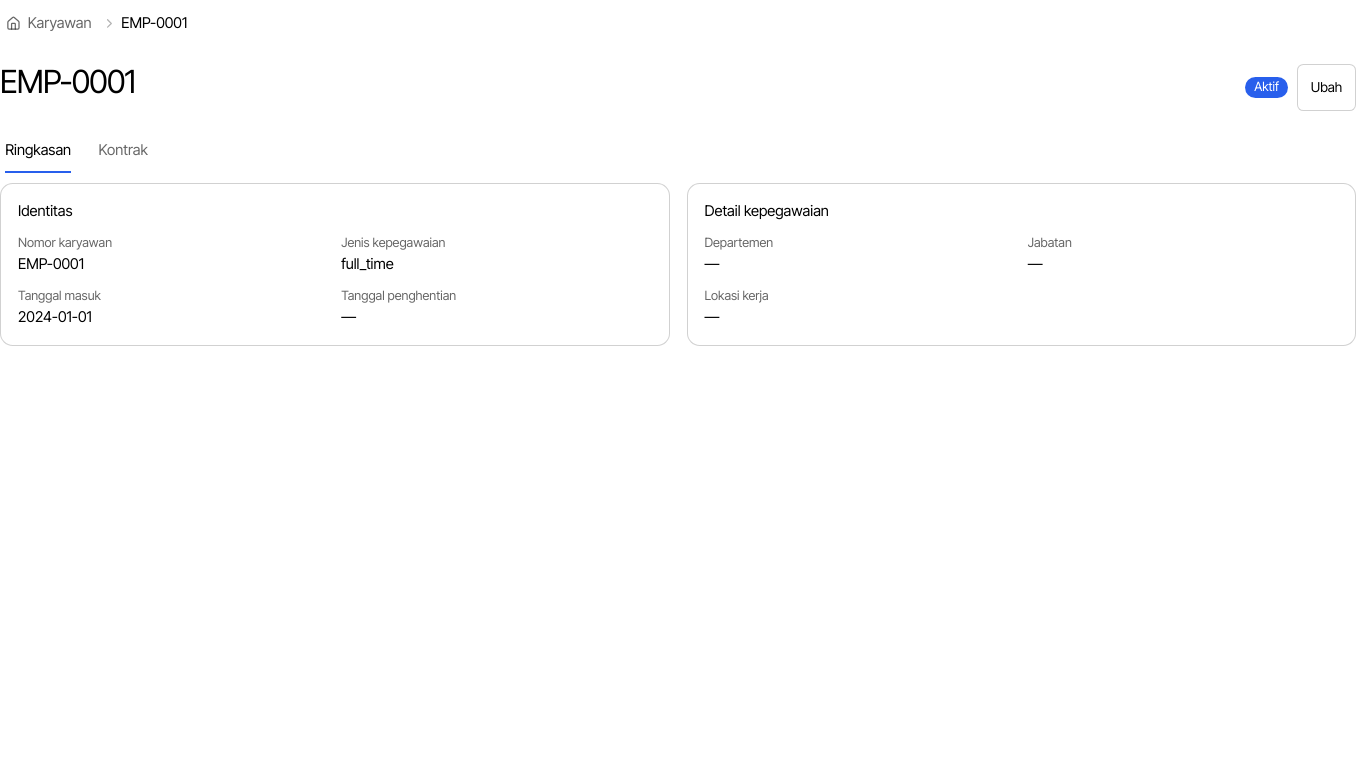
it: EmployeeDetail branches › opens the edit dialog and saves
The width and height of the screenshot is (1366, 768).
expect the heading "EMP-0001" is shown: met, box [0, 64, 135, 100]
Click the button "Ubah" at (1326, 87), box [1297, 64, 1356, 111]
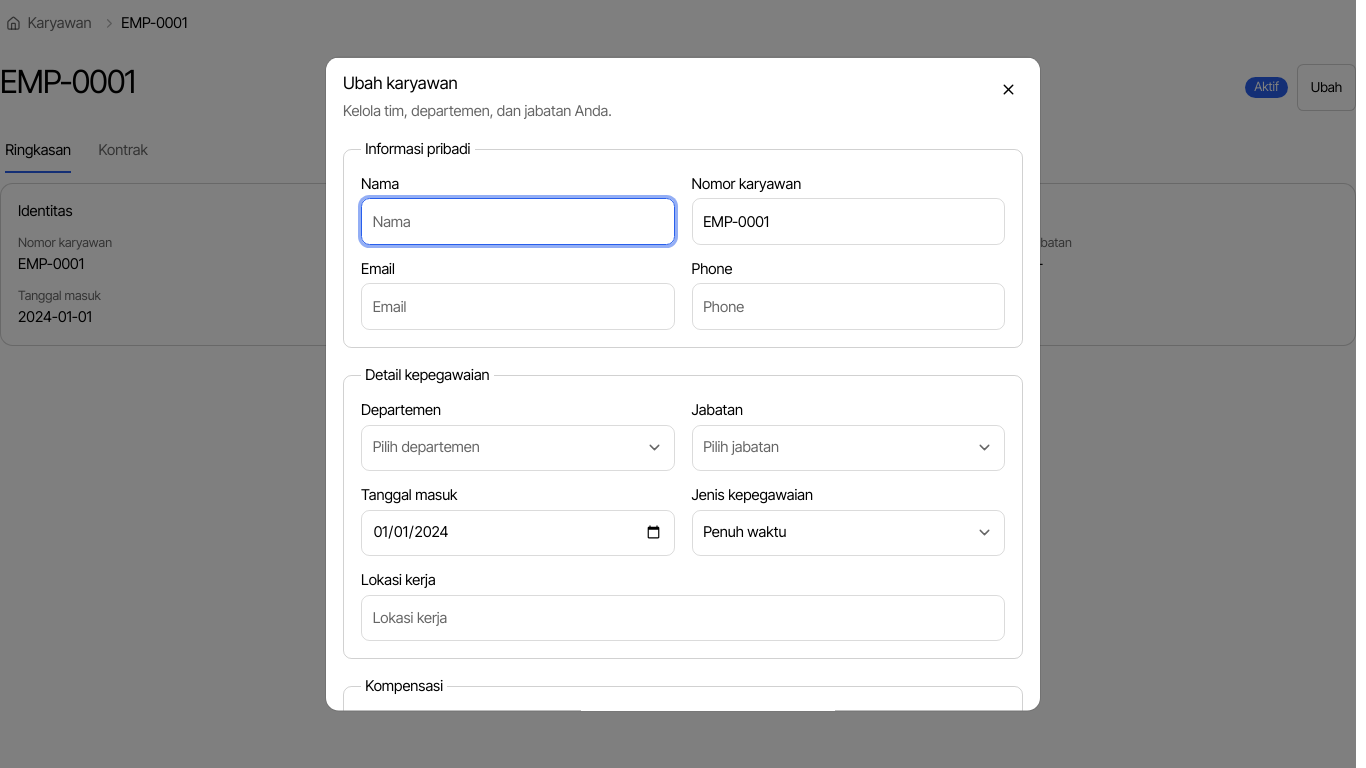
expect the dialog is shown: met, box [326, 58, 1040, 710]
